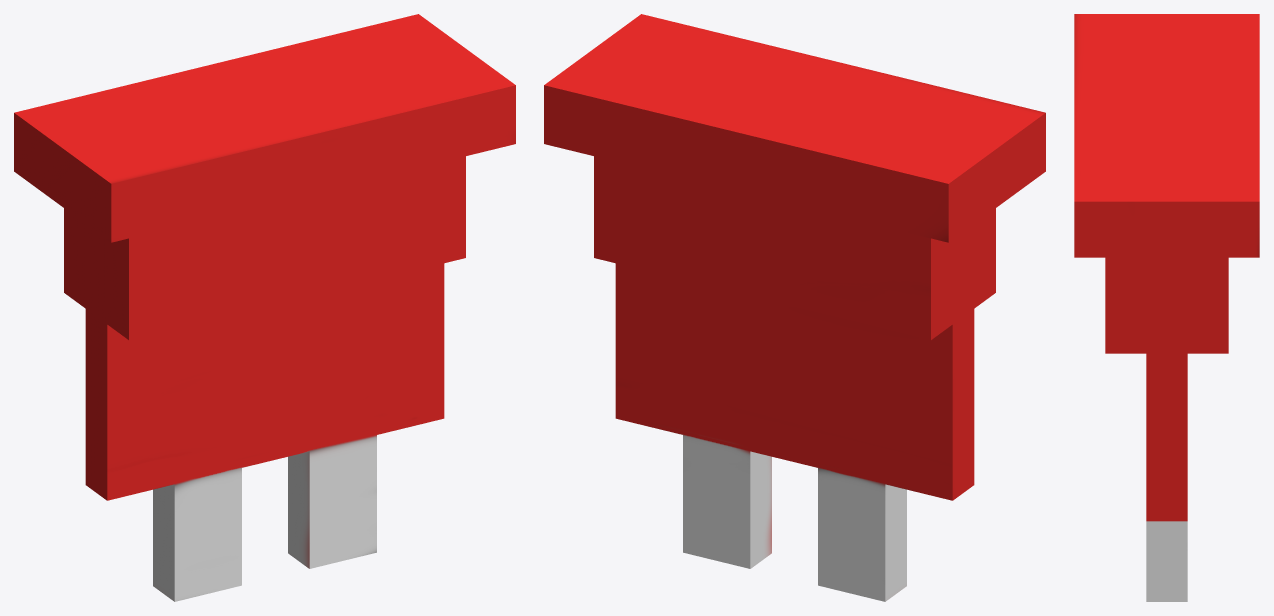
Rendered from CarFuse.fbx.
3 renders of one model, left to right at view 1: azimuth 30°, elevation 25°; view 2: azimuth 150°, elevation 25°; view 3: azimuth 270°, elevation 25°, orthographic. The views are drawn at different scales.
Visible parts, largest first — view 1: CarFuse; view 2: CarFuse; view 3: CarFuse.
Part boxes in pixels (x1,y1,x2,y2): CarFuse: (14, 14, 515, 601); CarFuse: (544, 14, 1045, 601); CarFuse: (1074, 14, 1259, 601).
Size of the model in its own units: 72 by 80 by 30.
